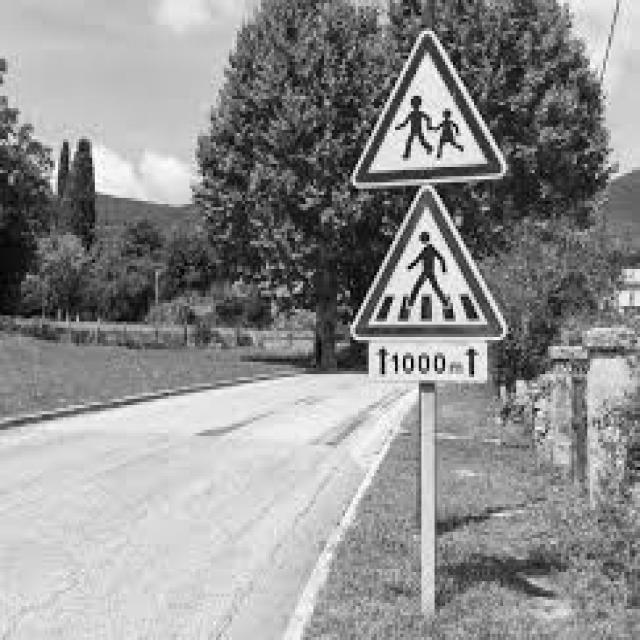danger: (346, 188, 514, 345), (348, 25, 510, 186)
